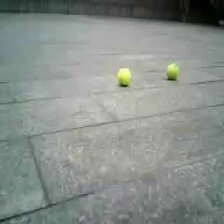tennis: (165, 63, 180, 80), (119, 68, 132, 85)
